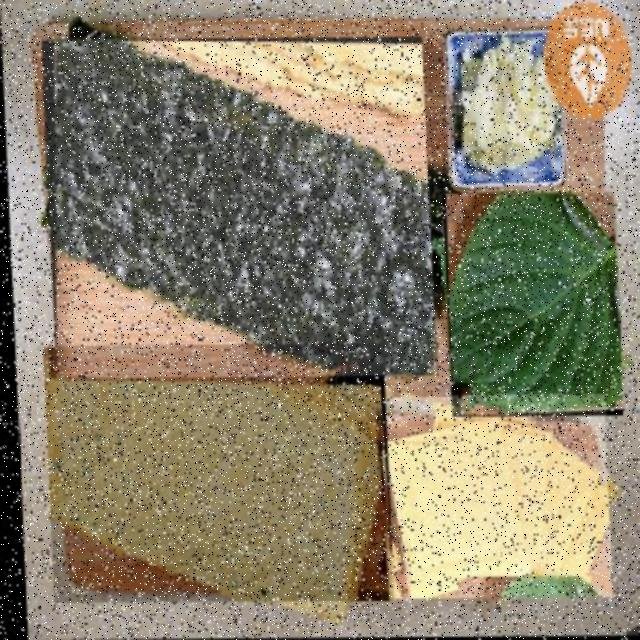Cheese: (377, 395, 609, 599)
Seaweed: (41, 36, 434, 378)
